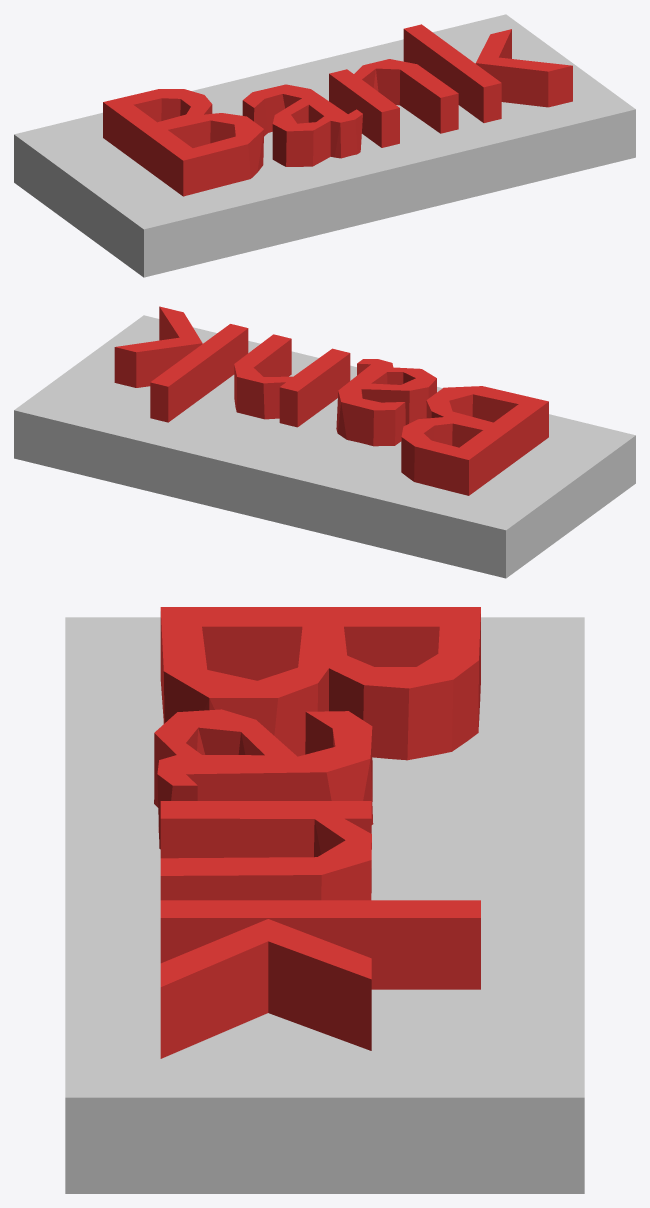
File: signBank.glb
3 renders of one model, top to bottom at view 1: azimuth 30°, elevation 25°; view 2: azimuth 150°, elevation 25°; view 3: azimuth 270°, elevation 25°, orthographic. The views are drawn at different scales.
Parts seen in each view (by area): view 1: Cube, Text; view 2: Cube, Text; view 3: Cube, Text.
Part boxes in pixels (left/top/right/bottom): Cube: left=14, top=14, right=635, bottom=277; Text: left=103, top=24, right=572, bottom=196; Cube: left=14, top=315, right=635, bottom=578; Text: left=114, top=306, right=548, bottom=495; Cube: left=65, top=617, right=584, bottom=1193; Text: left=154, top=607, right=480, bottom=1058.
Size of the model in its own units: 2.42 by 0.3948 by 1.11.
